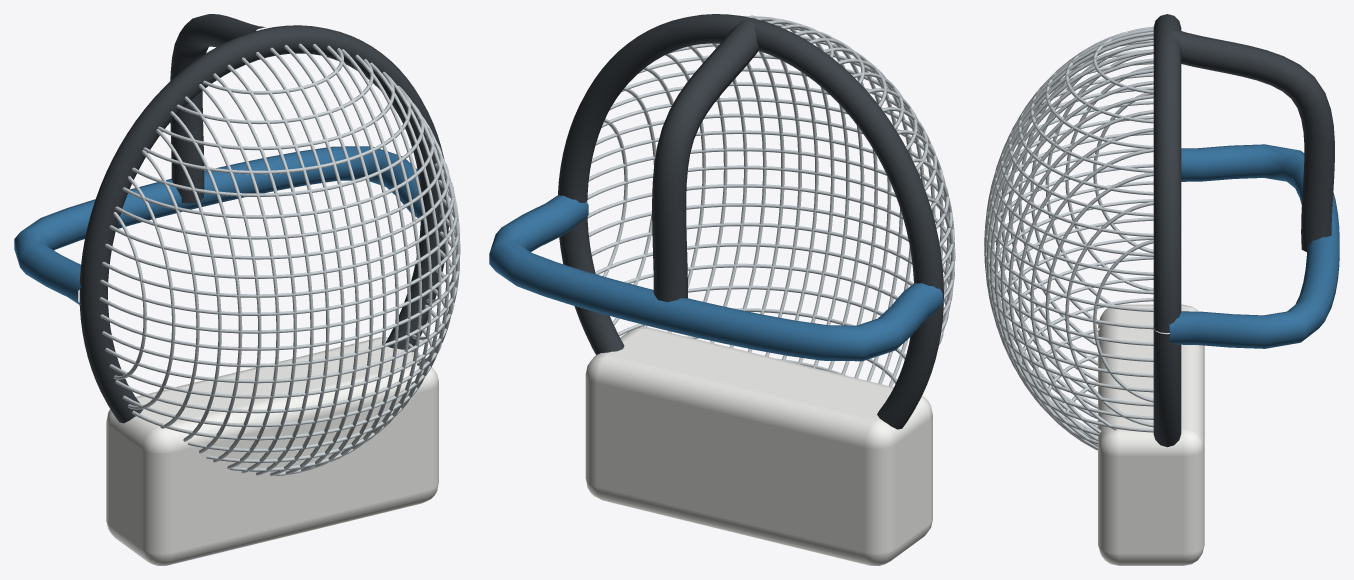
Rendered from fencing-club-and-tournament-piste-mask-46fb3207__31225.glb.
3 views of the same model, side by side, from view 1: azimuth 30°, elevation 25°; view 2: azimuth 150°, elevation 25°; view 3: azimuth 270°, elevation 25° (orthographic). The views are drawn at different scales.
Visible parts, largest first — view 1: mask; view 2: mask; view 3: mask.
Part boxes in pixels (left/top/right/bottom): mask: left=14, top=14, right=460, bottom=565; mask: left=489, top=14, right=955, bottom=565; mask: left=984, top=14, right=1339, bottom=565.
Bounding box in the file's own units: 0.4093 × 0.4883 × 0.333.
